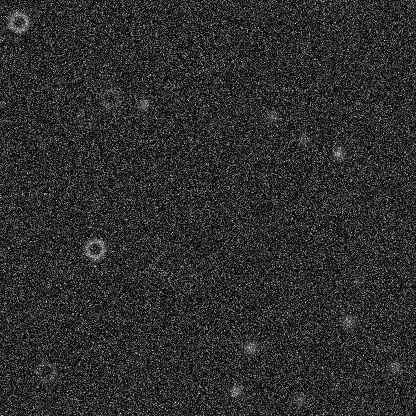Ring: (34, 360, 58, 384), (6, 9, 30, 33), (74, 105, 98, 129), (97, 86, 121, 110), (82, 236, 106, 260)
Spot: (135, 96, 151, 112), (330, 145, 346, 161), (340, 313, 356, 329), (349, 271, 365, 287), (387, 359, 403, 375), (295, 132, 311, 148), (227, 383, 243, 399), (263, 109, 279, 125), (291, 391, 307, 407), (260, 68, 276, 84), (242, 339, 258, 355)
